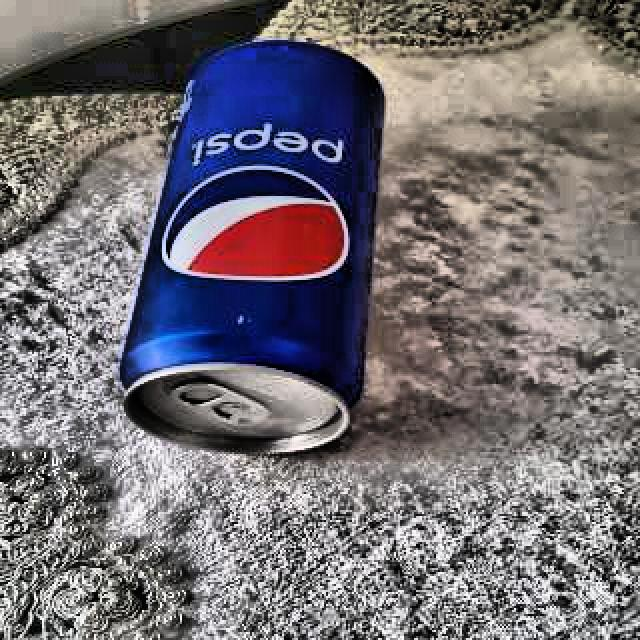metal: (118, 40, 390, 456)
